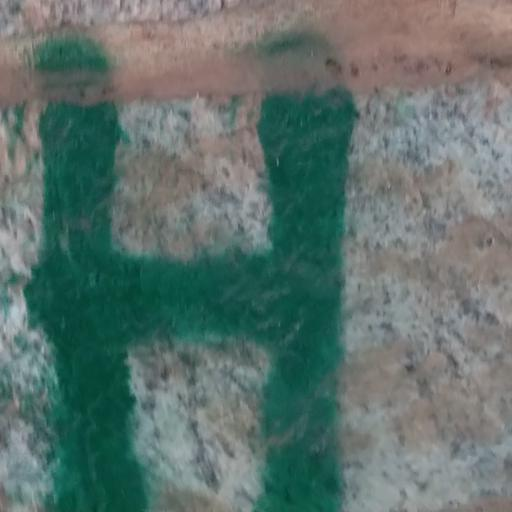stain: (9, 18, 394, 512)
